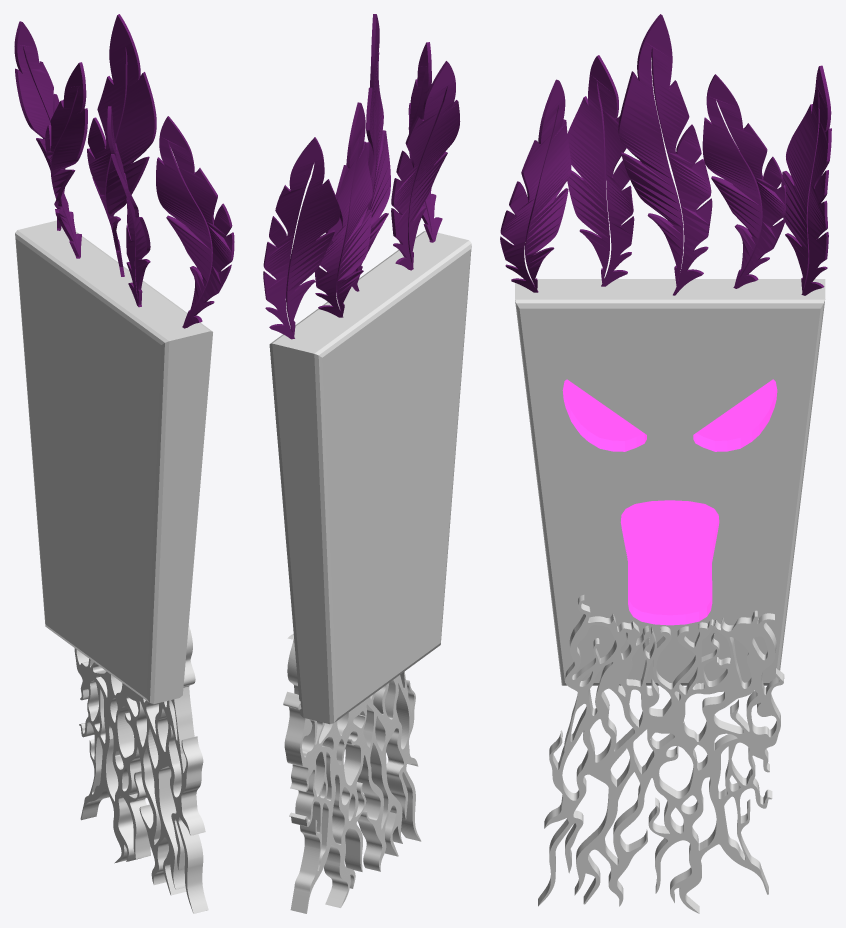
The model's file is boss animato prova 1.fbx.
3 views of the same model, side by side, from view 1: azimuth 30°, elevation 25°; view 2: azimuth 150°, elevation 25°; view 3: azimuth 270°, elevation 25° (orthographic). The views are drawn at different scales.
Visible parts, largest first — view 1: boss; view 2: boss; view 3: boss.
Boxes of the visible parts, x1,y1,x2,y2 form: boss: (14,14,234,913); boss: (263,14,471,913); boss: (500,14,831,913).
Size of the model in its own units: 65.72 by 636 by 216.
